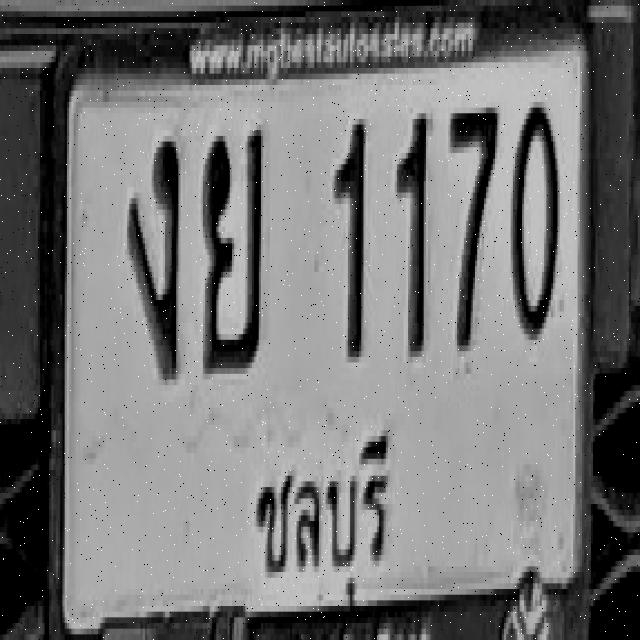0: (510, 102, 558, 340)
1: (332, 116, 366, 360), (394, 110, 428, 354)
16NgorNgu: (127, 136, 179, 380)
43YorYak: (202, 127, 264, 371)
7: (449, 102, 498, 351)
Chonburi: (246, 422, 394, 610)
